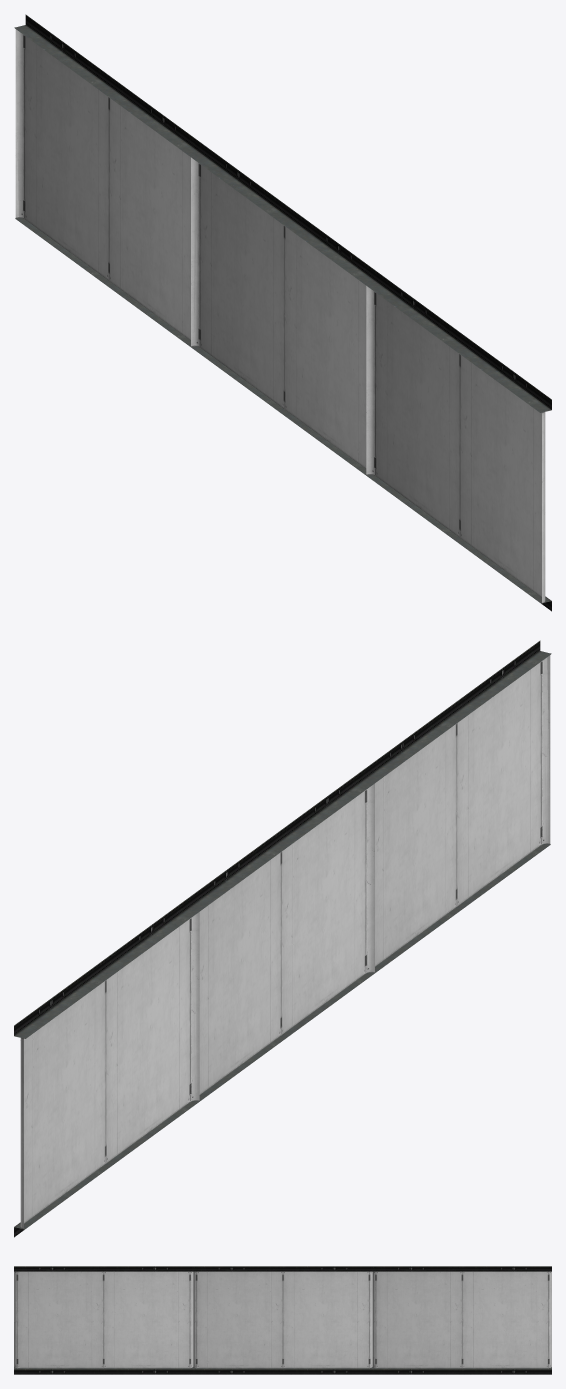
The model's file is Neon_Wall_18x4_01B.FBX.
3 renders of one model, top to bottom at view 1: azimuth 30°, elevation 25°; view 2: azimuth 150°, elevation 25°; view 3: azimuth 270°, elevation 25°, orthographic. The views are drawn at different scales.
Visible parts, largest first — view 1: Neon_Wall_18x4_01B; view 2: Neon_Wall_18x4_01B; view 3: Neon_Wall_18x4_01B.
Part boxes in pixels (x1,y1,x2,y2): Neon_Wall_18x4_01B: [14, 14, 551, 611]; Neon_Wall_18x4_01B: [14, 640, 551, 1237]; Neon_Wall_18x4_01B: [14, 1266, 551, 1374].
Bounding box in the file's own units: 0.2298 × 4 × 18.
